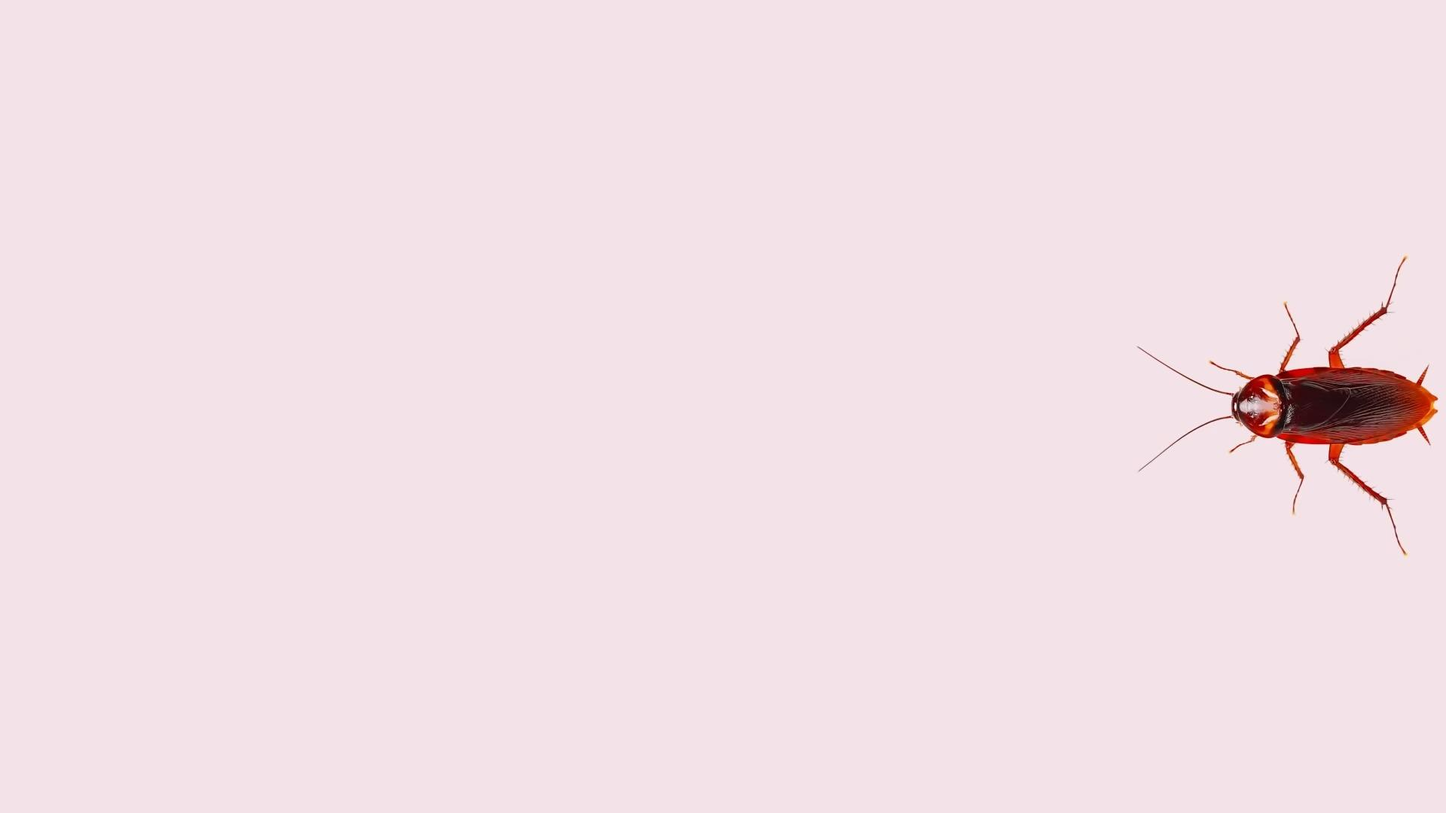cockroach: (1128, 317, 1446, 544)
